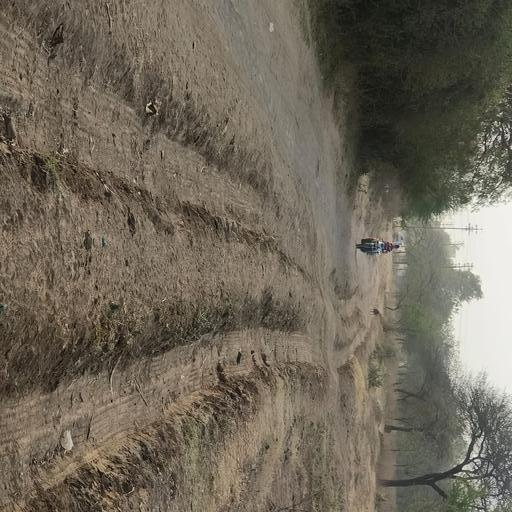vehicle_track: (0, 14, 312, 270), (0, 326, 323, 512), (198, 0, 357, 262)
